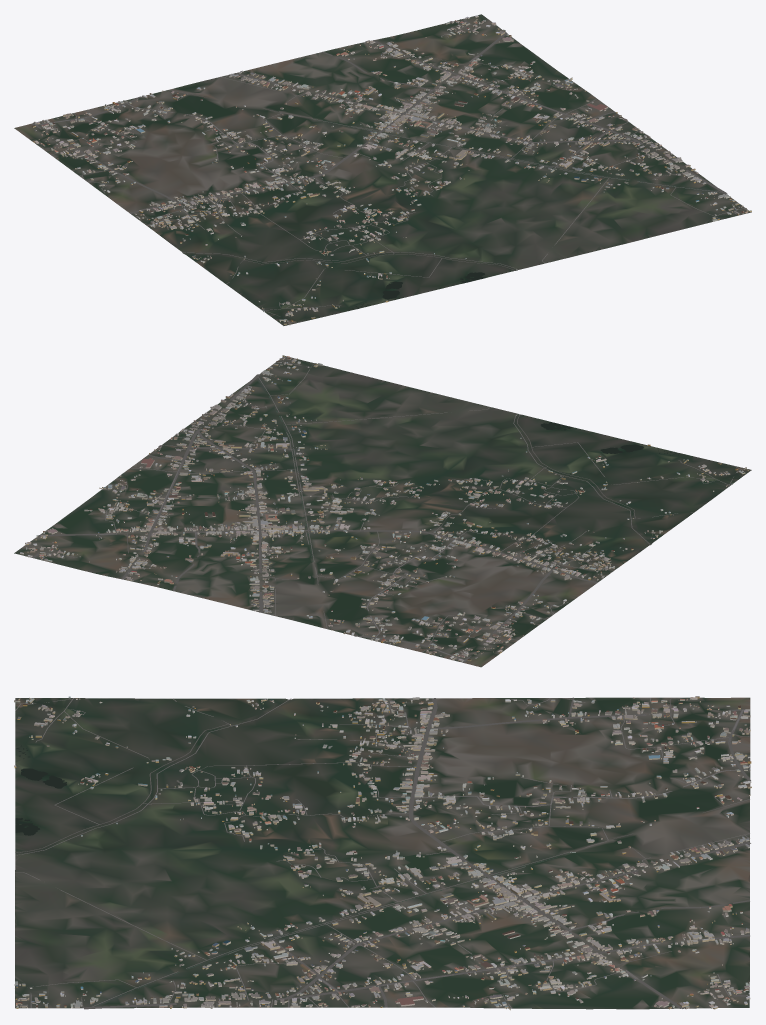
The picture shows the model from 3 angles, top to bottom: view 1: azimuth 30°, elevation 25°; view 2: azimuth 150°, elevation 25°; view 3: azimuth 270°, elevation 25°; orthographic projection. The views are drawn at different scales.
Parts seen in each view (by area): view 1: ground, buildings, roads, water; view 2: ground, buildings, roads; view 3: ground, buildings, roads, water.
Part boxes in pixels (box(x1,y1,x2,y2)): ground: box(14, 14, 751, 325); buildings: box(31, 15, 751, 325); roads: box(31, 18, 745, 324); water: box(313, 118, 716, 308); ground: box(14, 356, 751, 667); buildings: box(20, 355, 748, 662); roads: box(31, 360, 743, 662); ground: box(15, 697, 750, 1009); buildings: box(14, 696, 751, 1010); roads: box(15, 697, 750, 1009); water: box(15, 745, 571, 1005).
Size of the model in its own units: 2820 by 26 by 2813.
